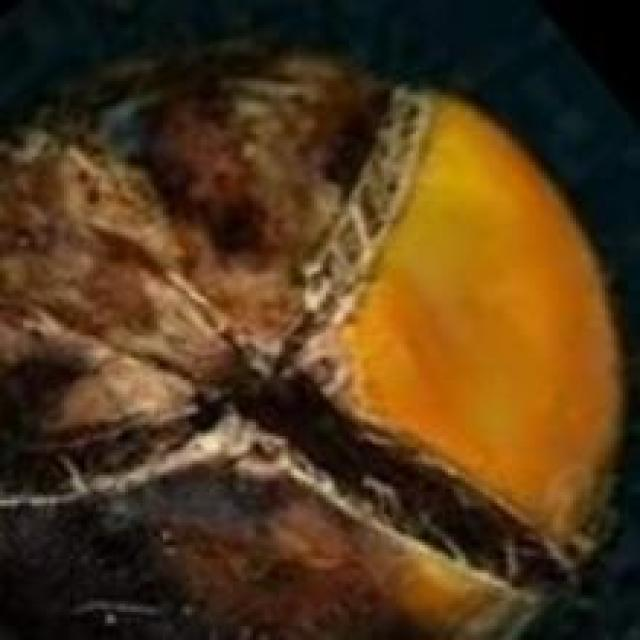damaged: (0, 42, 623, 637)
